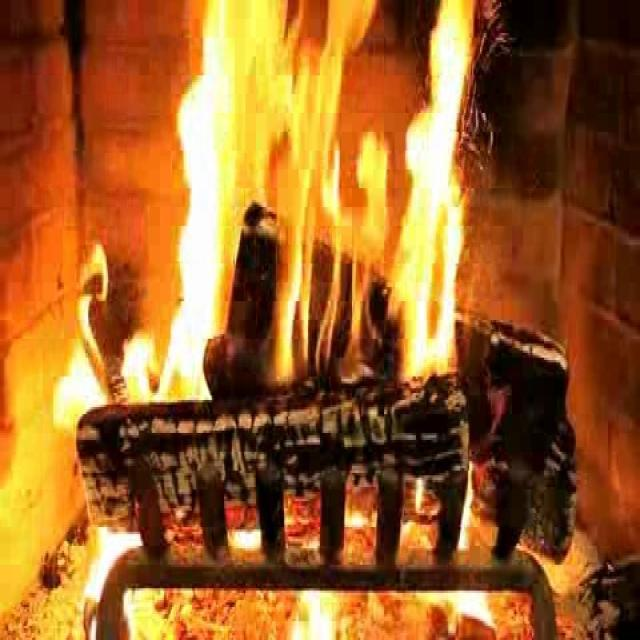Fire: (172, 0, 493, 400)
